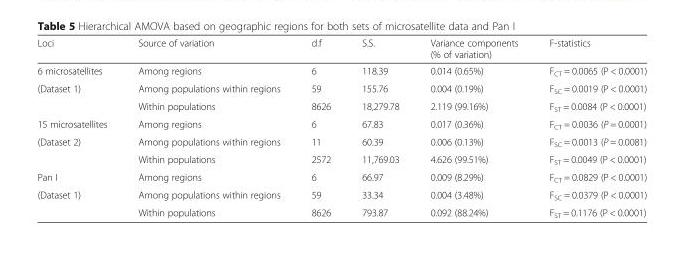table: (36, 36, 646, 218)
table column: (121, 36, 295, 218), (414, 36, 533, 218), (533, 36, 646, 218), (36, 36, 121, 218), (345, 36, 414, 218), (295, 36, 345, 218)
table column header: (36, 36, 646, 62)
table row: (36, 36, 646, 62), (36, 79, 646, 97), (36, 97, 646, 115), (36, 132, 646, 150), (36, 150, 646, 168), (36, 185, 646, 203), (36, 62, 646, 79), (36, 115, 646, 132), (36, 168, 646, 185), (36, 203, 646, 218)
table spanning cell: (36, 79, 121, 115), (36, 132, 121, 168), (36, 185, 121, 218)
